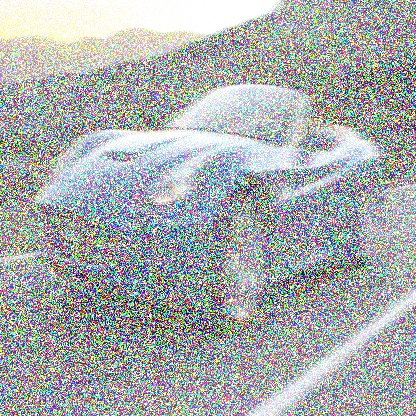Vehicle: (35, 82, 385, 335)
